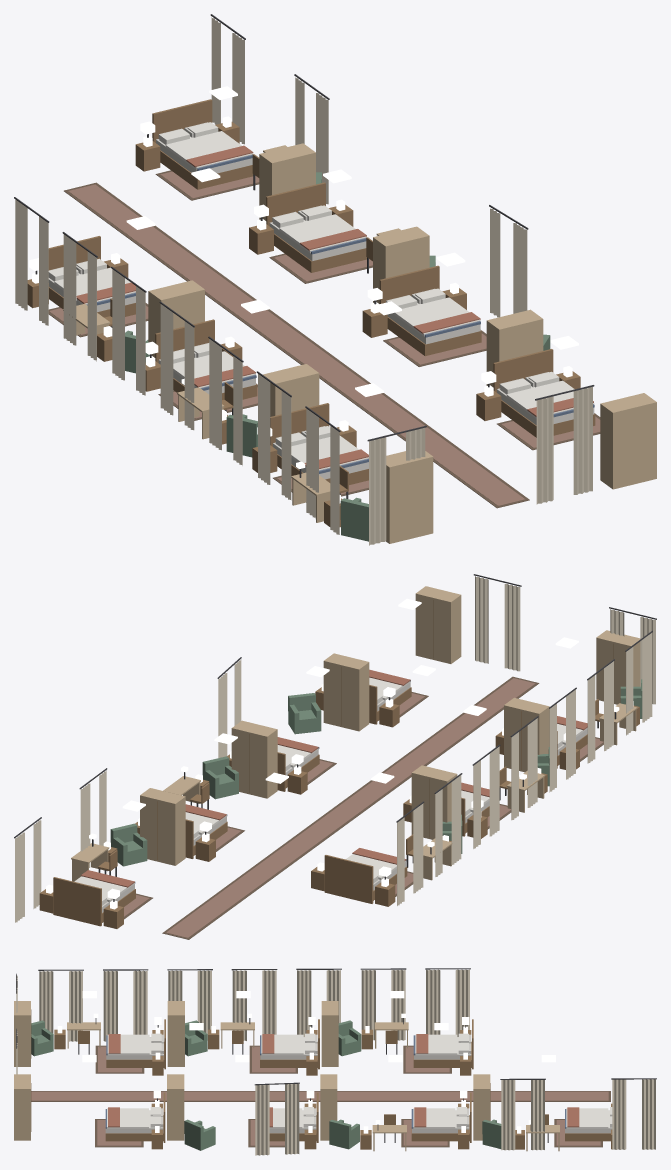
Rendered from fine-s1.glb.
3 renders of one model, top to bottom at view 1: azimuth 30°, elevation 25°; view 2: azimuth 150°, elevation 25°; view 3: azimuth 270°, elevation 25°, orthographic. The views are drawn at different scales.
Visible parts, largest first — view 1: soft-s1, dresser.006, dresser.002, bed-frame.004, bed-frame.005, bed-frame.003, bed-frame.006, dresser.005, dresser.003, dresser.004, dresser.000, dresser.001 (+7 smaller); view 2: soft-s1, dresser.005, dresser.006, dresser.003, dresser.004, bed-frame.003, dresser.001, bed-frame.000, dresser.000, dresser.002, lounge-chair.005, lounge-chair.003 (+9 smaller); view 3: soft-s1, dresser.005, dresser.000, dresser.001, dresser.006, dresser.002, dresser.003, dresser.004, bed-frame.004, bed-frame.006, bed-frame.000, bed-frame.001 (+14 smaller).
Boxes of the visible parts, box(x1,y1,x2,y2) form: soft-s1: box(14, 14, 600, 545); dresser.006: box(600, 393, 656, 489); dresser.002: box(386, 451, 433, 543); bed-frame.004: box(266, 182, 366, 272); bed-frame.005: box(379, 265, 481, 356); bed-frame.003: box(152, 99, 253, 189); bed-frame.006: box(493, 349, 595, 437); dresser.005: box(486, 309, 543, 386); dresser.003: box(259, 143, 315, 220); dresser.004: box(373, 226, 429, 303); dresser.000: box(148, 280, 204, 357); dresser.001: box(263, 364, 319, 416); soft-s1: box(14, 574, 656, 939); dresser.005: box(323, 653, 369, 731); dresser.006: box(415, 586, 461, 663); dresser.003: box(140, 788, 185, 865); dresser.004: box(231, 720, 277, 798); bed-frame.003: box(53, 877, 135, 926); dresser.001: box(504, 697, 549, 772); bed-frame.000: box(324, 855, 407, 903); dresser.000: box(411, 765, 457, 839); dresser.002: box(596, 630, 640, 704); lounge-chair.005: box(288, 693, 321, 734); lounge-chair.003: box(110, 823, 147, 866); soft-s1: box(16, 968, 656, 1155); dresser.005: box(167, 1074, 184, 1140); dresser.000: box(321, 1001, 338, 1066); dresser.001: box(167, 1001, 184, 1066); dresser.006: box(14, 1074, 31, 1140); dresser.002: box(14, 1001, 31, 1066); dresser.003: box(473, 1074, 490, 1140); dresser.004: box(320, 1074, 337, 1140); bed-frame.004: box(411, 1092, 471, 1142); bed-frame.006: box(105, 1092, 165, 1142); bed-frame.000: box(413, 1019, 473, 1069); bed-frame.001: box(260, 1019, 319, 1069).
Bounding box in the file's own units: 9.66 × 2.81 × 22.56.
